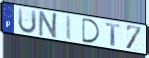7: (125, 24, 143, 51)
D: (81, 17, 102, 45)
I: (66, 14, 73, 42)
N: (38, 10, 60, 40)
T: (105, 22, 121, 48)
U: (17, 7, 38, 35)
